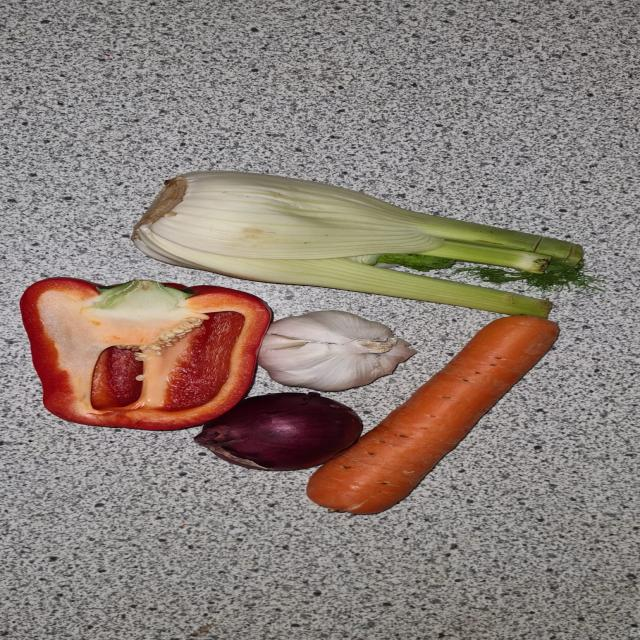carrot: (308, 314, 564, 516)
fennel: (139, 171, 593, 321)
garlic: (254, 311, 412, 394)
onion: (195, 390, 364, 474)
pepper: (26, 276, 269, 430)
